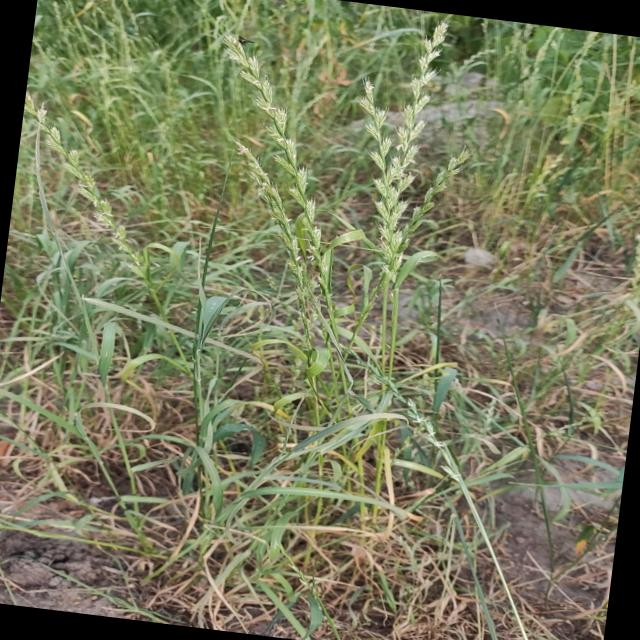Lolium: (0, 0, 615, 640), (186, 27, 359, 309), (338, 12, 489, 290), (5, 94, 168, 280), (314, 335, 449, 441)
